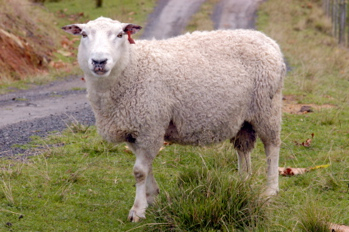koyun: (59, 8, 190, 225)
